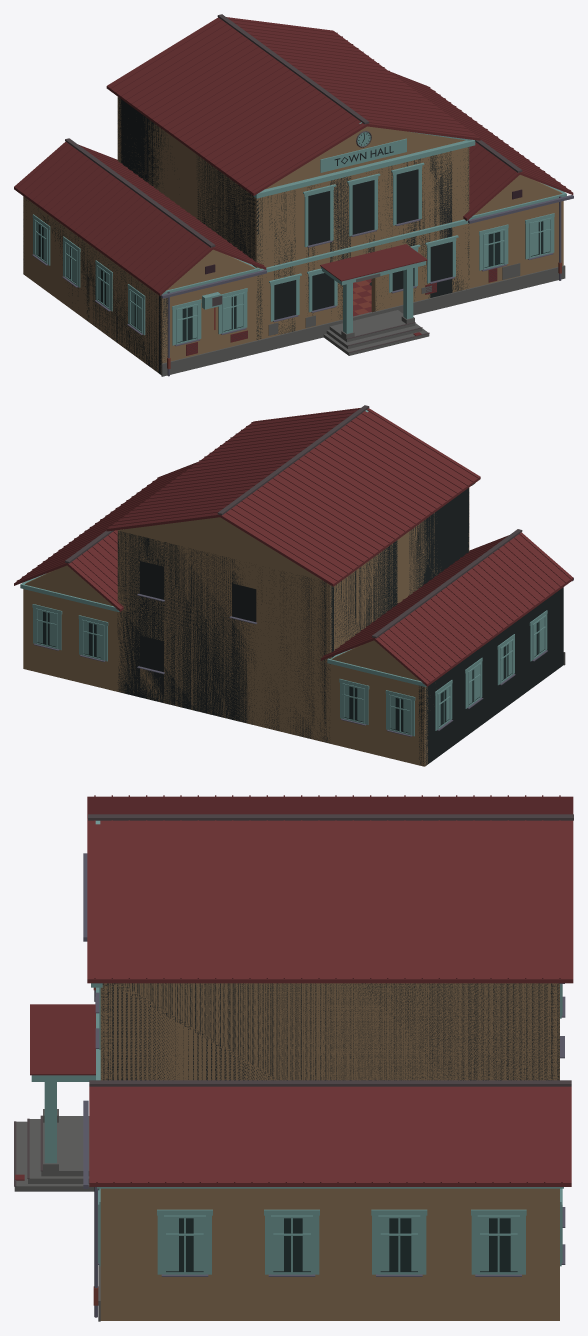
Rendered from primarie_cladire.glb.
The picture shows the model from 3 angles, top to bottom: view 1: azimuth 30°, elevation 25°; view 2: azimuth 150°, elevation 25°; view 3: azimuth 270°, elevation 25°; orthographic projection. The views are drawn at different scales.
Visible parts, largest first — view 1: Cladire, Coliziune; view 2: Cladire, Coliziune; view 3: Cladire, Coliziune.
Part boxes in pixels (box(x1,y1,x2,y2)): Cladire: box(14, 14, 573, 376); Coliziune: box(23, 98, 469, 374); Cladire: box(14, 405, 573, 766); Coliziune: box(117, 488, 563, 765); Cladire: box(14, 795, 573, 1321); Coliziune: box(101, 983, 559, 1080).
Size of the model in its own units: 20.62 by 9.89 by 14.63.
